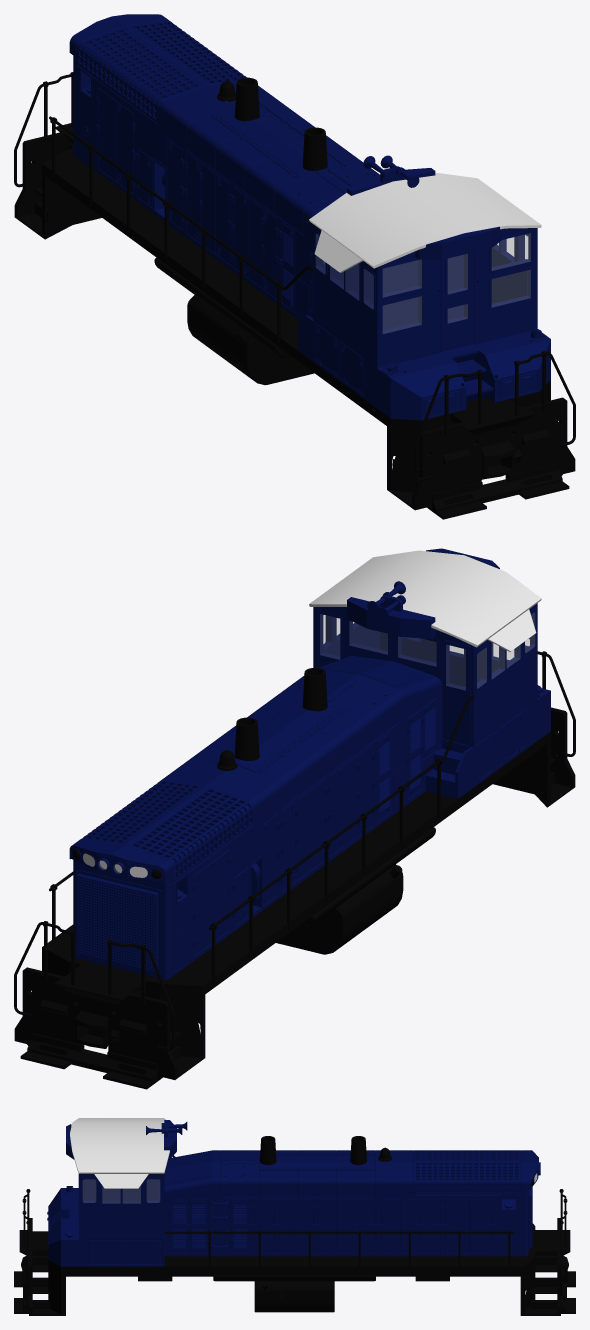
Rendered from body_blue.glb.
3 views of the same model, one above another, from view 1: azimuth 30°, elevation 25°; view 2: azimuth 150°, elevation 25°; view 3: azimuth 270°, elevation 25° (orthographic). The views are drawn at different scales.
Visible parts, largest first — view 1: Body; view 2: Body; view 3: Body.
Boxes of the visible parts, x1,y1,x2,y2 form: Body: [14, 14, 575, 519]; Body: [14, 548, 575, 1089]; Body: [14, 1118, 575, 1315].
Size of the model in its own units: 3.58 by 4.44 by 13.35.
